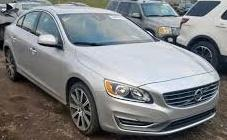Cars: (4, 5, 219, 135)
